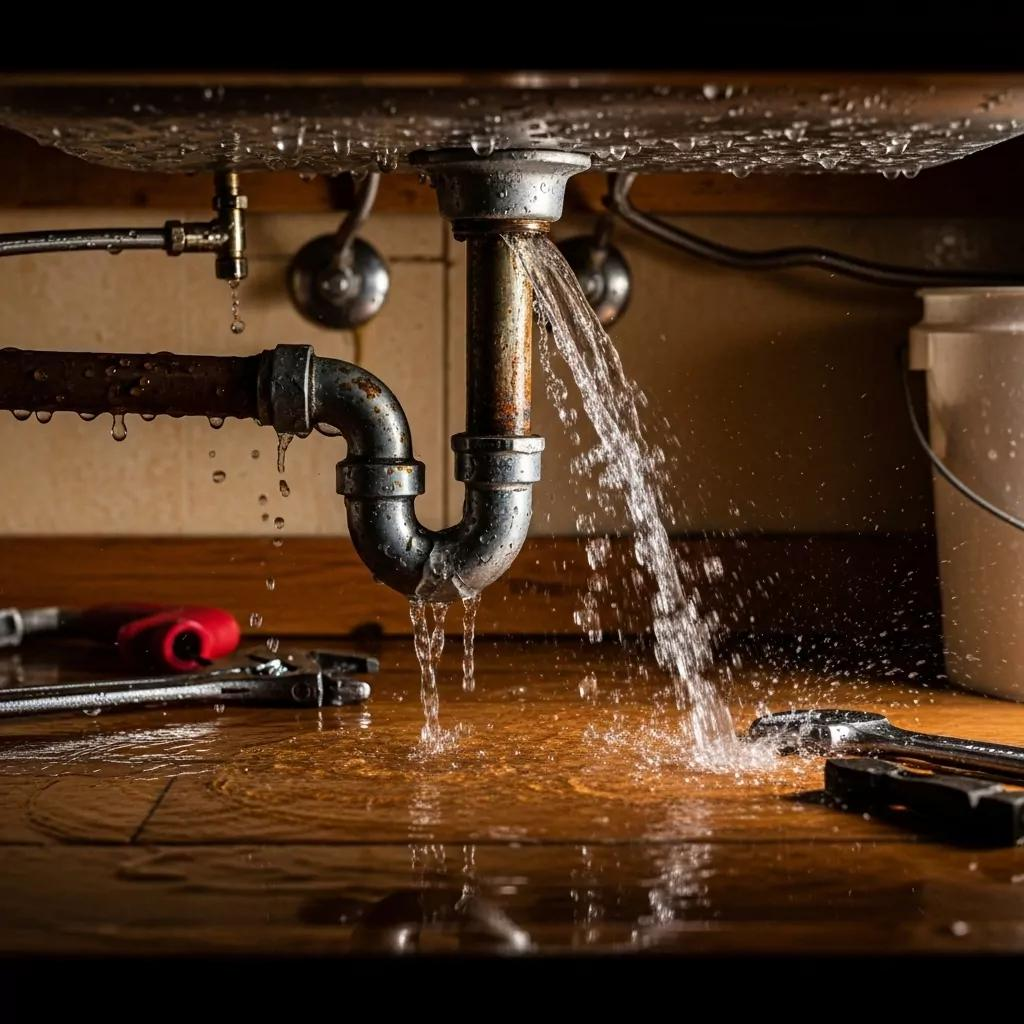pipe burst: (503, 220, 767, 769)
water accumulation: (0, 702, 966, 912)
water drop: (225, 280, 246, 336), (274, 431, 292, 473), (109, 410, 129, 441), (11, 408, 33, 420), (249, 611, 262, 630), (76, 410, 100, 420), (211, 468, 226, 484), (208, 415, 225, 429), (36, 410, 52, 424), (278, 480, 292, 496), (268, 636, 280, 652), (265, 577, 277, 590), (271, 538, 285, 549), (138, 412, 157, 420), (274, 517, 286, 529), (294, 430, 309, 438)
